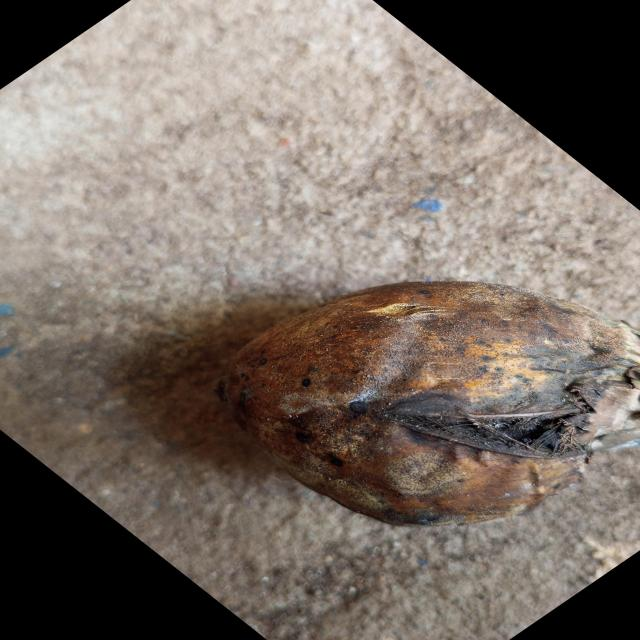damaged: (213, 280, 640, 530)
